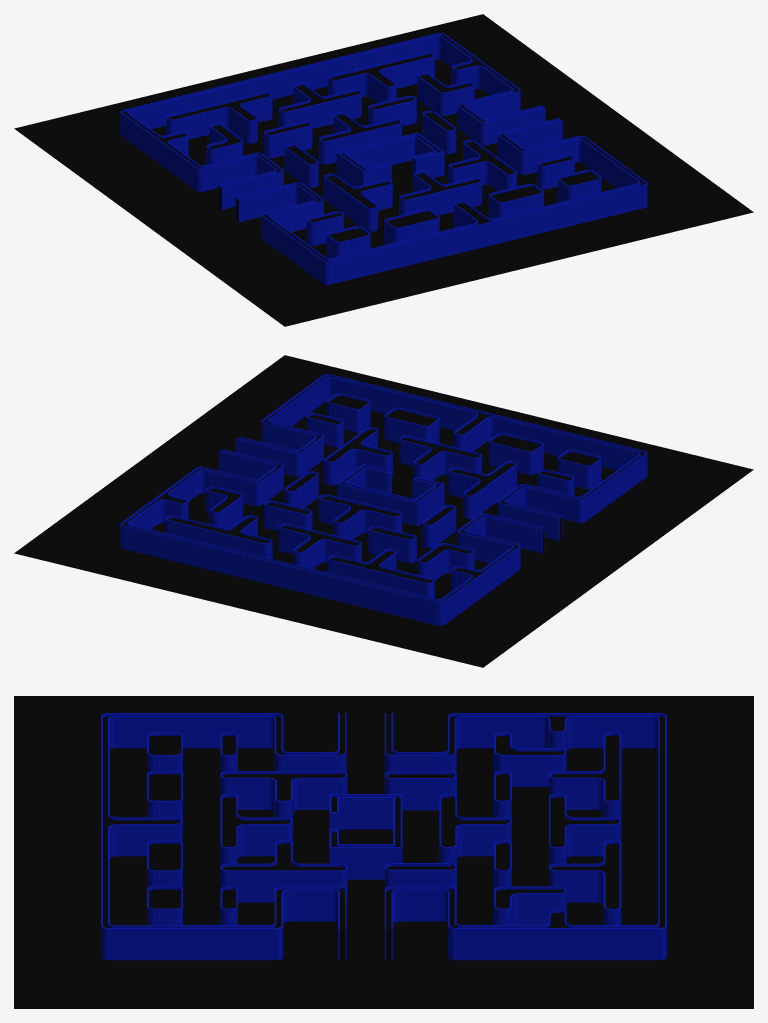
Rendered from Map_Thirdperson.fbx.
3 renders of one model, top to bottom at view 1: azimuth 30°, elevation 25°; view 2: azimuth 150°, elevation 25°; view 3: azimuth 270°, elevation 25°, orthographic. The views are drawn at different scales.
Visible parts, largest first — view 1: Walls, Ground; view 2: Walls, Ground; view 3: Ground, Walls.
Boxes of the visible parts, x1,y1,x2,y2 form: Walls: [120, 33, 647, 284]; Ground: [14, 14, 753, 326]; Walls: [120, 374, 647, 625]; Ground: [14, 355, 753, 667]; Ground: [14, 696, 753, 1008]; Walls: [101, 713, 666, 960].
Bounding box in the file's own units: 500 × 23.5 × 500.
